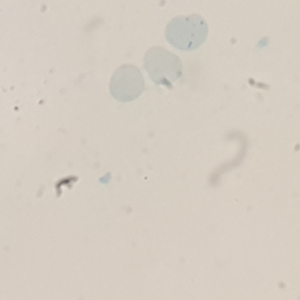erythrocyte: (141, 45, 185, 88), (108, 62, 147, 104)
punctate reticulocyte: (163, 12, 211, 52)
